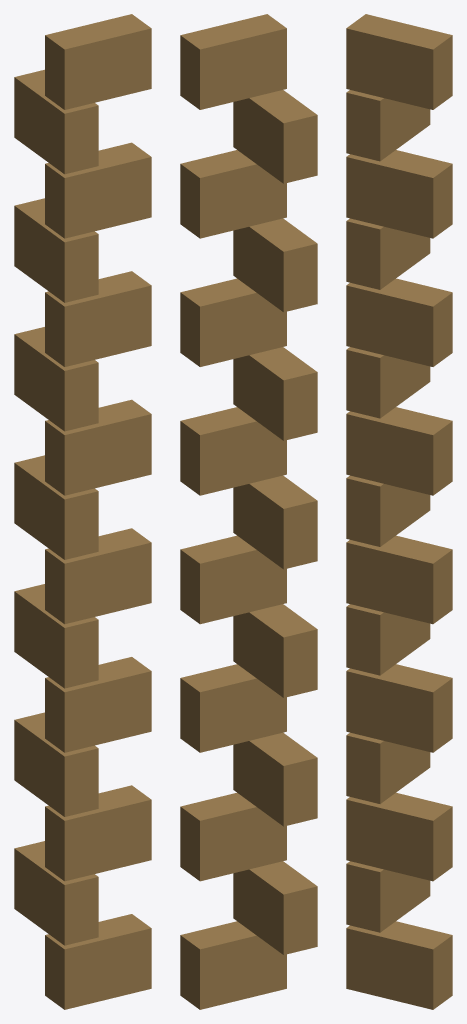
Rendered from CornerBricksB.fbx.
3 views of the same model, side by side, from view 1: azimuth 30°, elevation 25°; view 2: azimuth 210°, elevation 25°; view 3: azimuth 330°, elevation 25° (orthographic).
Visible parts, largest first — view 1: CornerBricksB; view 2: CornerBricksB; view 3: CornerBricksB.
Part boxes in pixels (bbox=[...]): CornerBricksB: bbox=[14, 14, 151, 1009]; CornerBricksB: bbox=[180, 14, 317, 1009]; CornerBricksB: bbox=[346, 14, 452, 1009].
Size of the model in its own units: 28.32 by 299 by 28.32.
